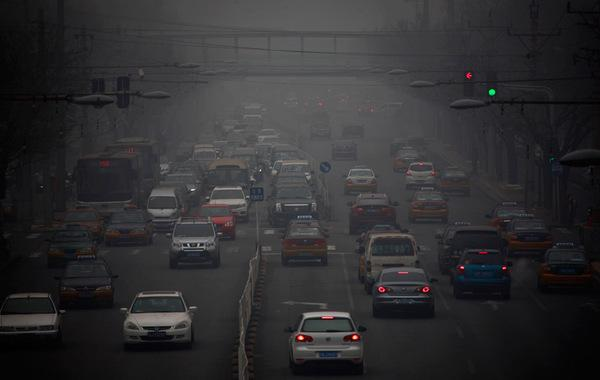bus: (66, 147, 145, 228), (103, 137, 162, 201), (204, 159, 250, 209), (190, 144, 218, 178), (231, 146, 259, 178)
car: (285, 312, 368, 373), (120, 291, 199, 349), (358, 233, 422, 294), (368, 269, 439, 319), (52, 255, 119, 307), (446, 227, 510, 281), (450, 249, 514, 298), (165, 215, 223, 269), (1, 294, 64, 343), (537, 243, 593, 294), (355, 230, 409, 282), (434, 221, 490, 266), (265, 182, 319, 226), (347, 192, 401, 235), (278, 220, 330, 264), (499, 214, 553, 255), (144, 183, 190, 229), (104, 204, 154, 244), (46, 230, 101, 264), (56, 206, 108, 241), (205, 186, 251, 223), (196, 203, 240, 241), (406, 187, 450, 223), (485, 200, 531, 234), (160, 174, 202, 206), (271, 171, 315, 198), (274, 160, 314, 188), (439, 166, 472, 197), (403, 162, 439, 189), (343, 168, 380, 194), (268, 159, 307, 183), (270, 145, 303, 172), (393, 146, 423, 173), (330, 139, 358, 161), (340, 117, 366, 137), (241, 104, 263, 127), (257, 129, 282, 147), (376, 102, 405, 116), (310, 120, 332, 138), (222, 120, 245, 137), (390, 138, 411, 156)
